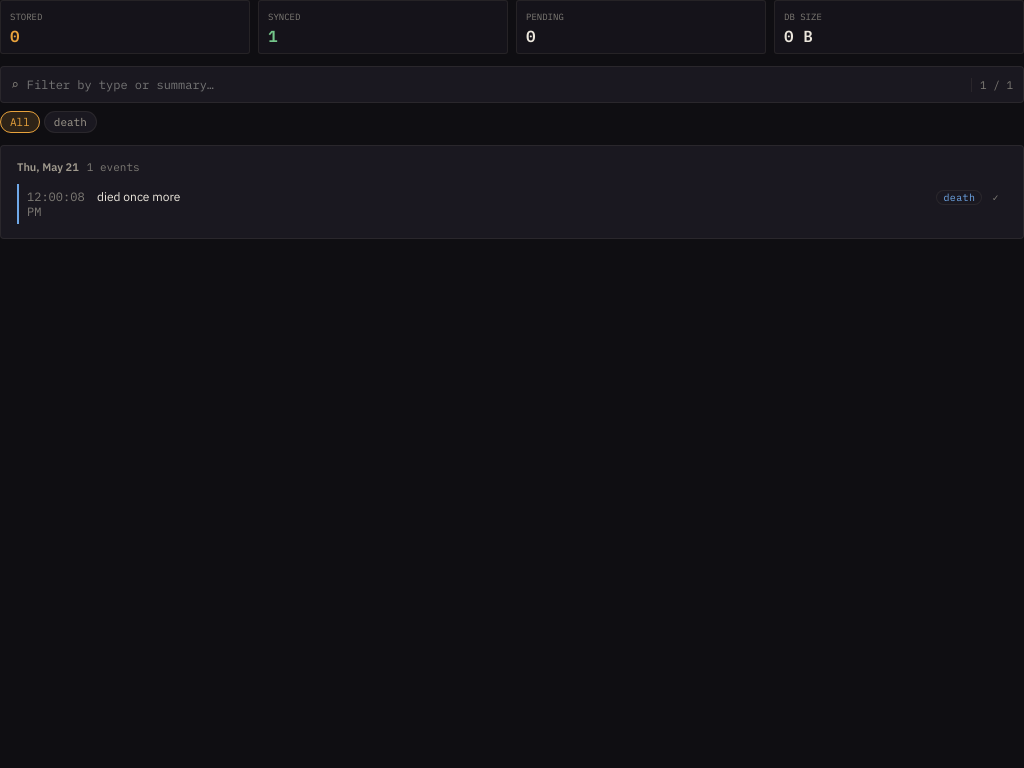
Test: LogsPane › dismisses the drawer when the Close button is clicked
Click the text "died once more": (139, 196) [97,189,180,204]
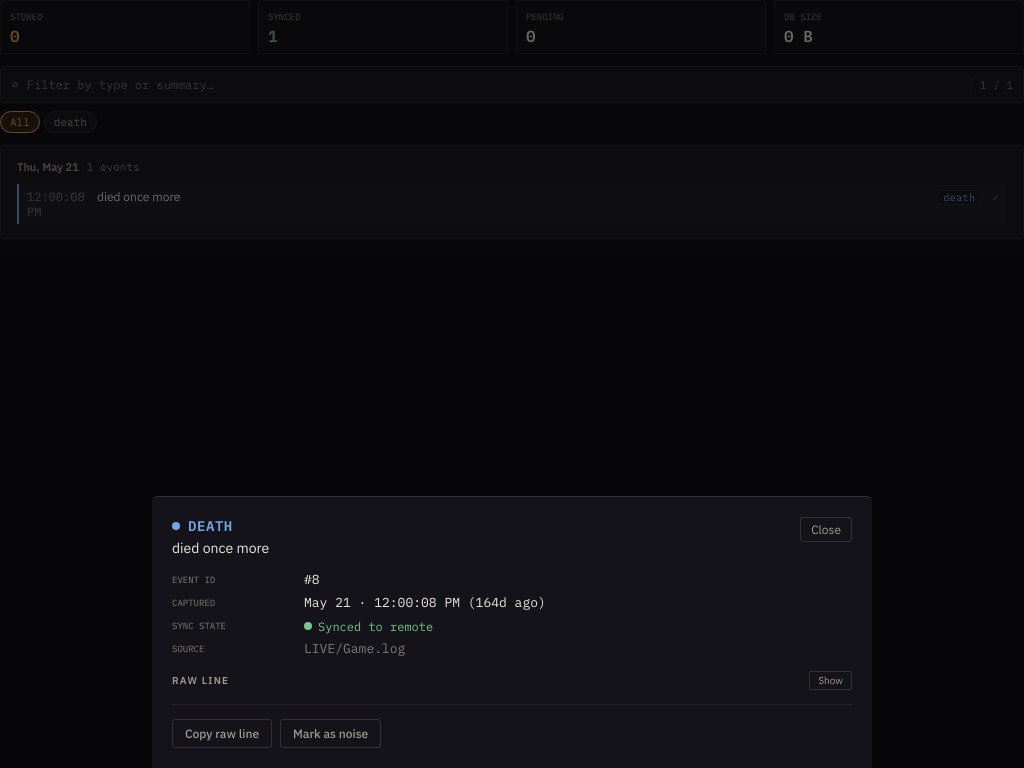
Click the button "Close": (826, 530) [800,517,852,542]
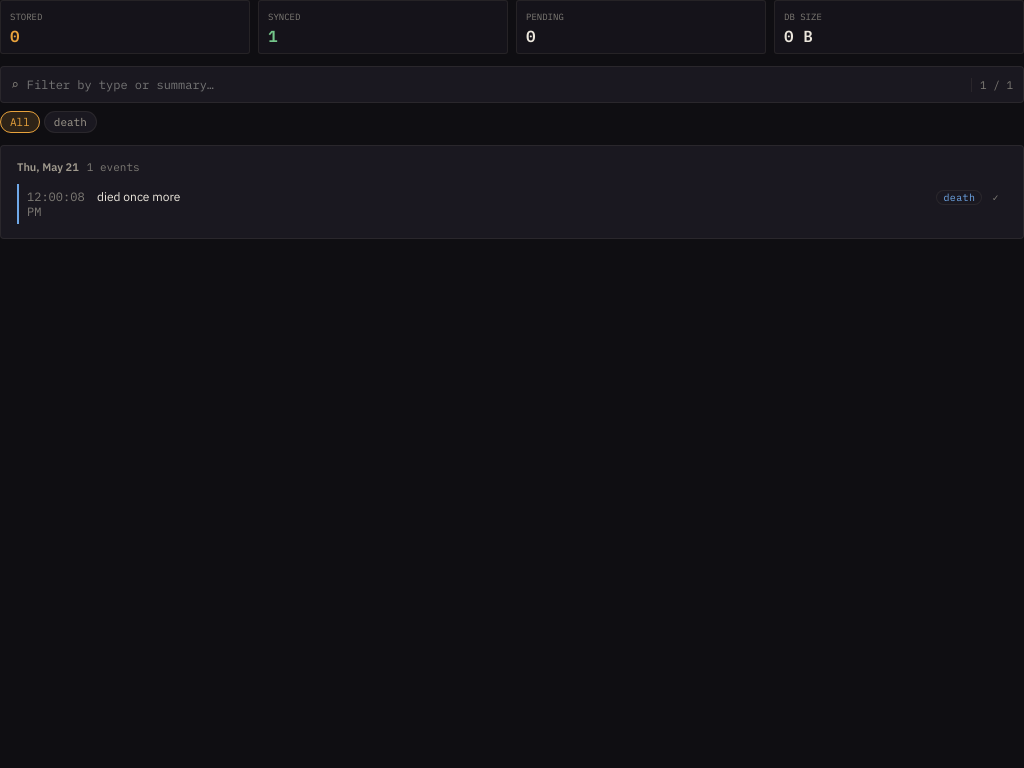
Check: the dialog is gone
